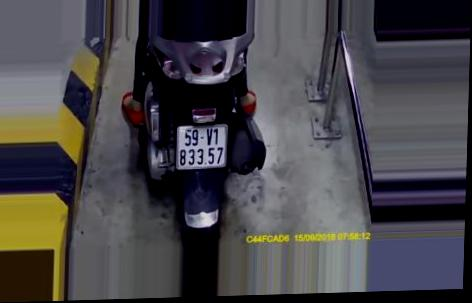License_Plate: (170, 121, 231, 175)
